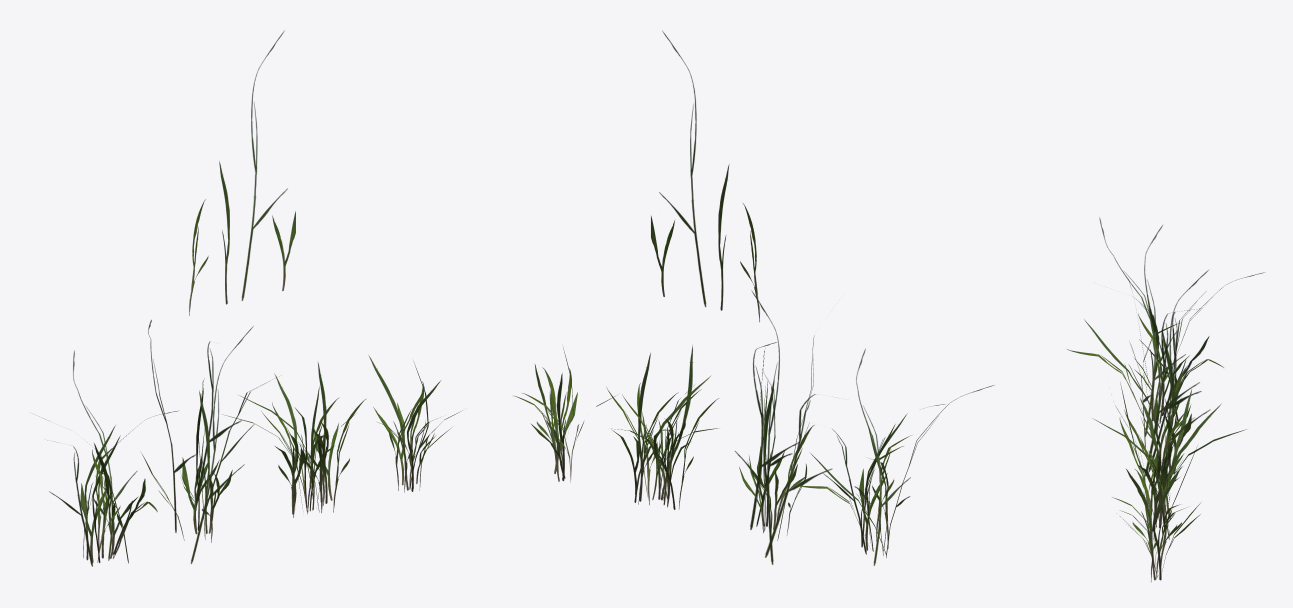
Rendered from fab_grass.glb.
3 views of the same model, side by side, from view 1: azimuth 30°, elevation 25°; view 2: azimuth 150°, elevation 25°; view 3: azimuth 270°, elevation 25° (orthographic). The views are drawn at different scales.
Visible parts, largest first — view 1: trasparent grass4.008, trasparent grass2.003, trasparent grass4.005, trasparent grass4.002, trasparent grass2; view 2: trasparent grass2.003, trasparent grass4.008, trasparent grass4.005, trasparent grass4.002, trasparent grass2; view 3: trasparent grass4.008, trasparent grass2.003, trasparent grass4.005, trasparent grass4.002.
Boxes of the visible parts, x1,y1,x2,y2 form: trasparent grass4.008: [223, 362, 365, 517]; trasparent grass2.003: [141, 320, 274, 563]; trasparent grass4.005: [36, 350, 177, 566]; trasparent grass4.002: [368, 355, 462, 492]; trasparent grass2: [241, 30, 287, 300]; trasparent grass2.003: [735, 290, 831, 564]; trasparent grass4.008: [606, 345, 719, 509]; trasparent grass4.005: [793, 349, 994, 565]; trasparent grass4.002: [513, 347, 614, 482]; trasparent grass2: [659, 31, 706, 306]; trasparent grass4.008: [1092, 383, 1246, 539]; trasparent grass2.003: [1115, 270, 1210, 500]; trasparent grass4.005: [1067, 217, 1264, 436]; trasparent grass4.002: [1112, 446, 1200, 582].
Size of the model in its own units: 6.36 by 7.16 by 2.92.
Materials: 4 (4 with a texture image).
